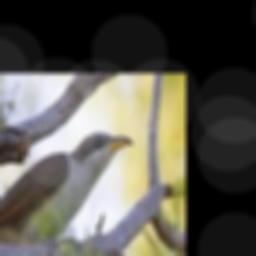Cuckoo: (0, 131, 133, 246)
